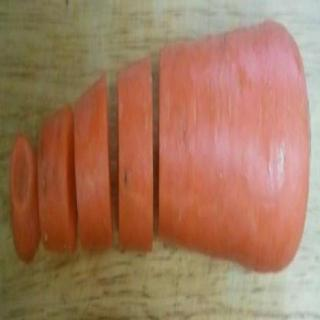carrot: (156, 12, 312, 272)
